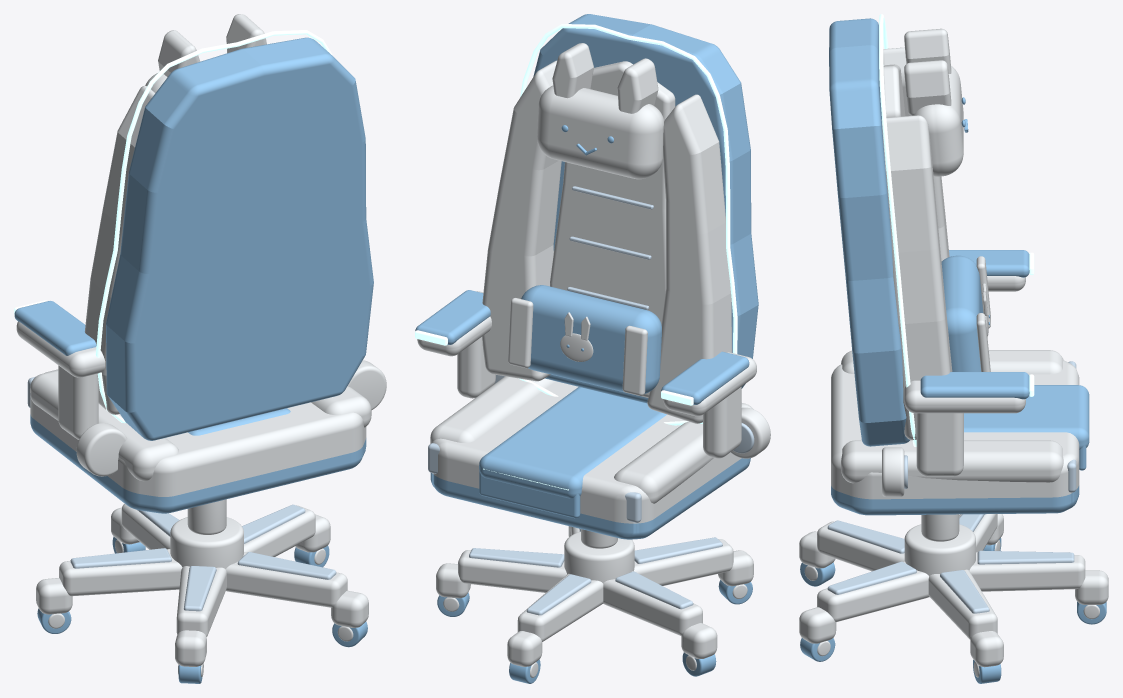
File: Chair.fbx
The picture shows the model from 3 angles, left to right: view 1: azimuth 30°, elevation 25°; view 2: azimuth 150°, elevation 25°; view 3: azimuth 270°, elevation 25°; orthographic projection. The views are drawn at different scales.
Visible parts, largest first — view 1: Seat_LowerShell; view 2: Seat_LowerShell; view 3: Seat_LowerShell.
Part boxes in pixels (x1,y1,x2,y2): Seat_LowerShell: [14, 14, 386, 683]; Seat_LowerShell: [415, 14, 770, 683]; Seat_LowerShell: [799, 14, 1108, 683].
Size of the model in its own units: 68 by 62.29 by 129.
